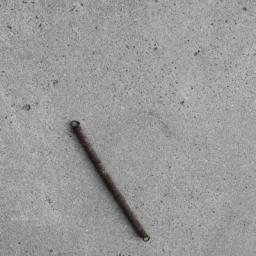FOD: (69, 119, 153, 243)
